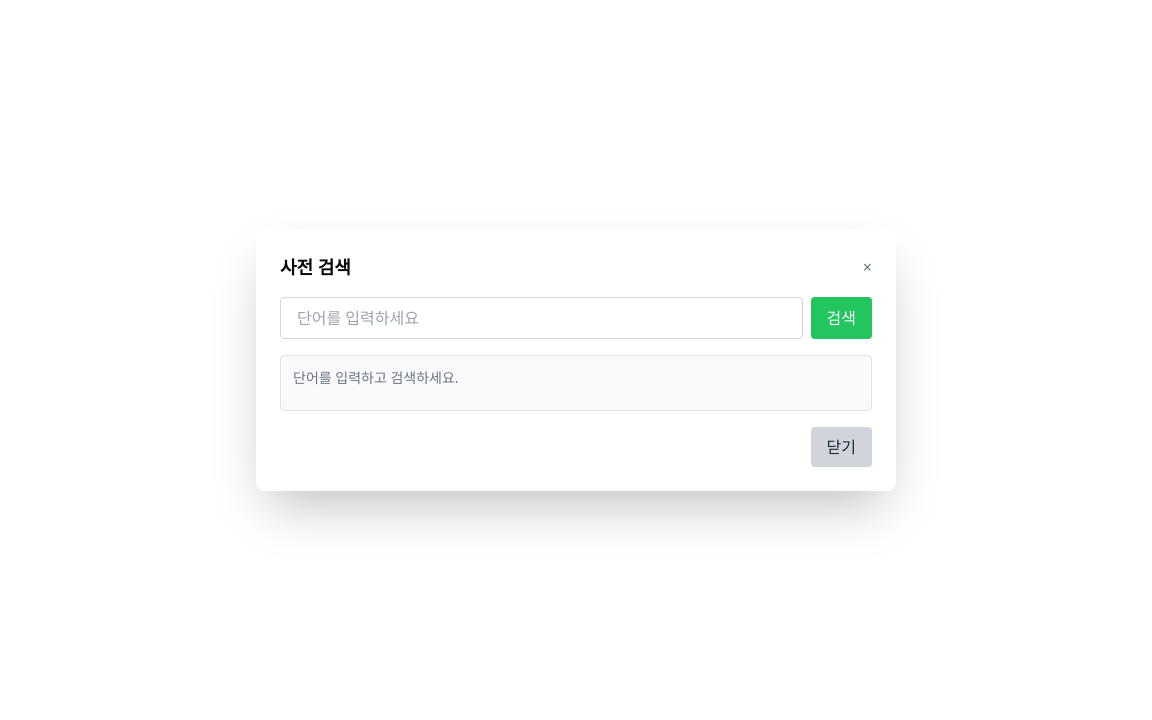
Test: DictionaryModal › should search for a word
In the field with placeholder "단어를 입력하세요": [541, 318] box [280,297,802,339], type "가방"
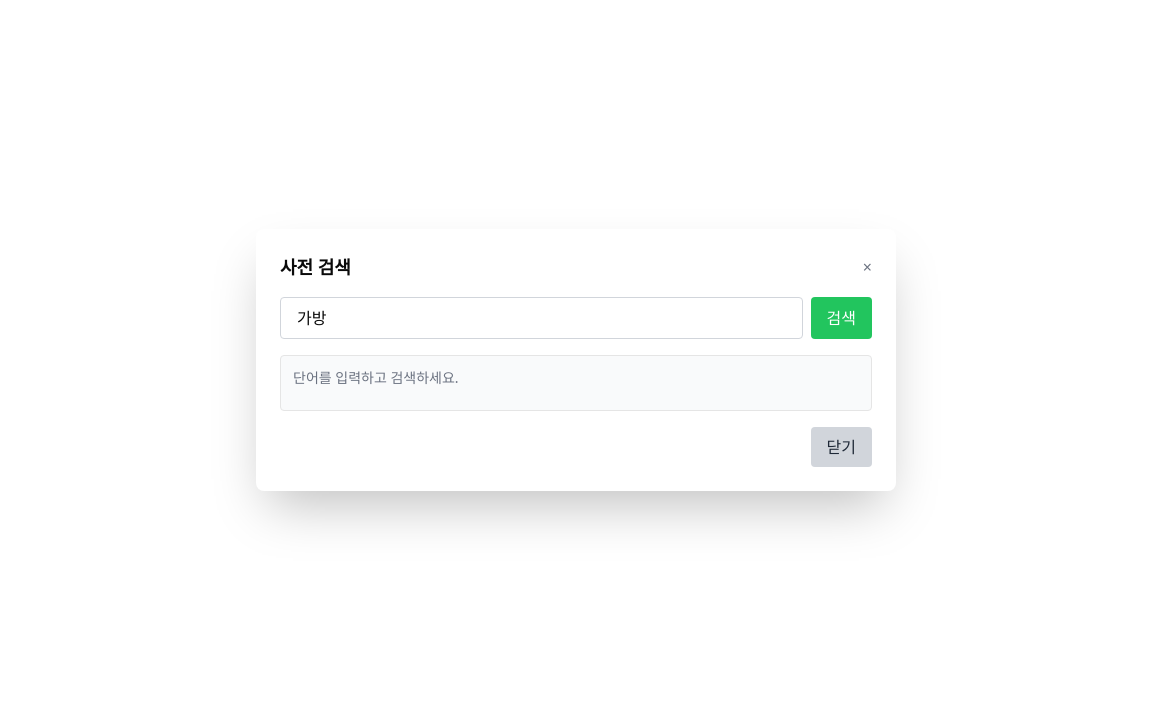
Click the button "검색": [841, 318] box [810,297,872,339]
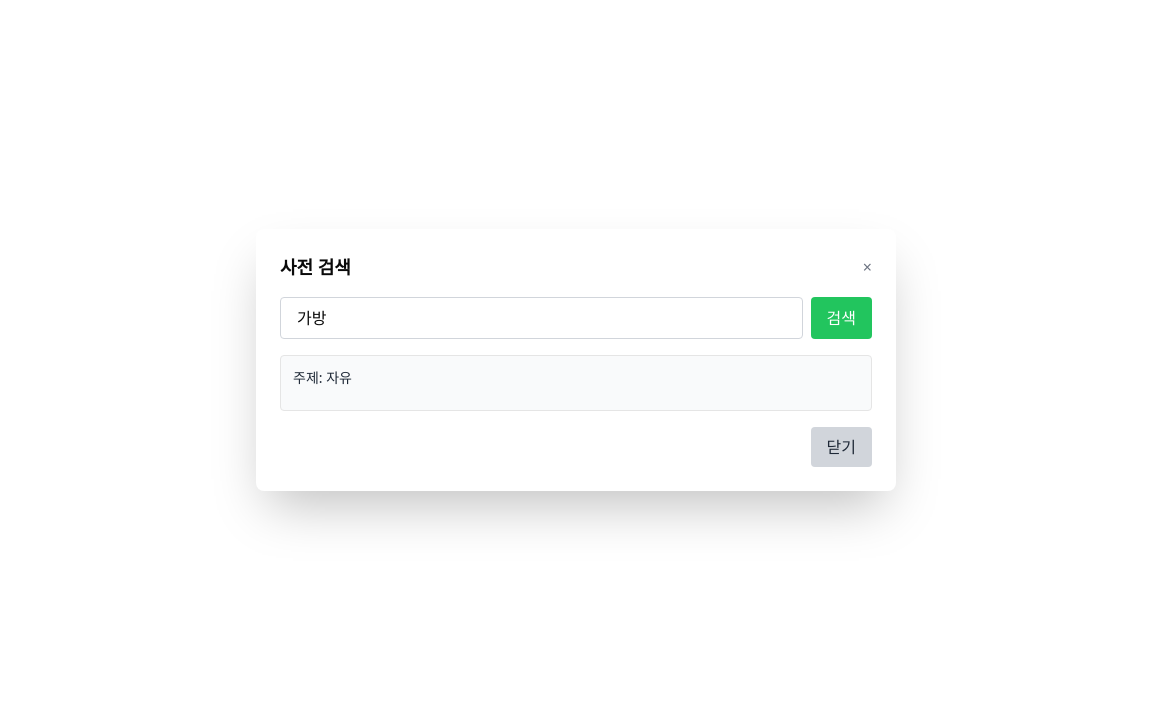
Result: the text "주제: 자유" is shown at [293,368,352,387]
